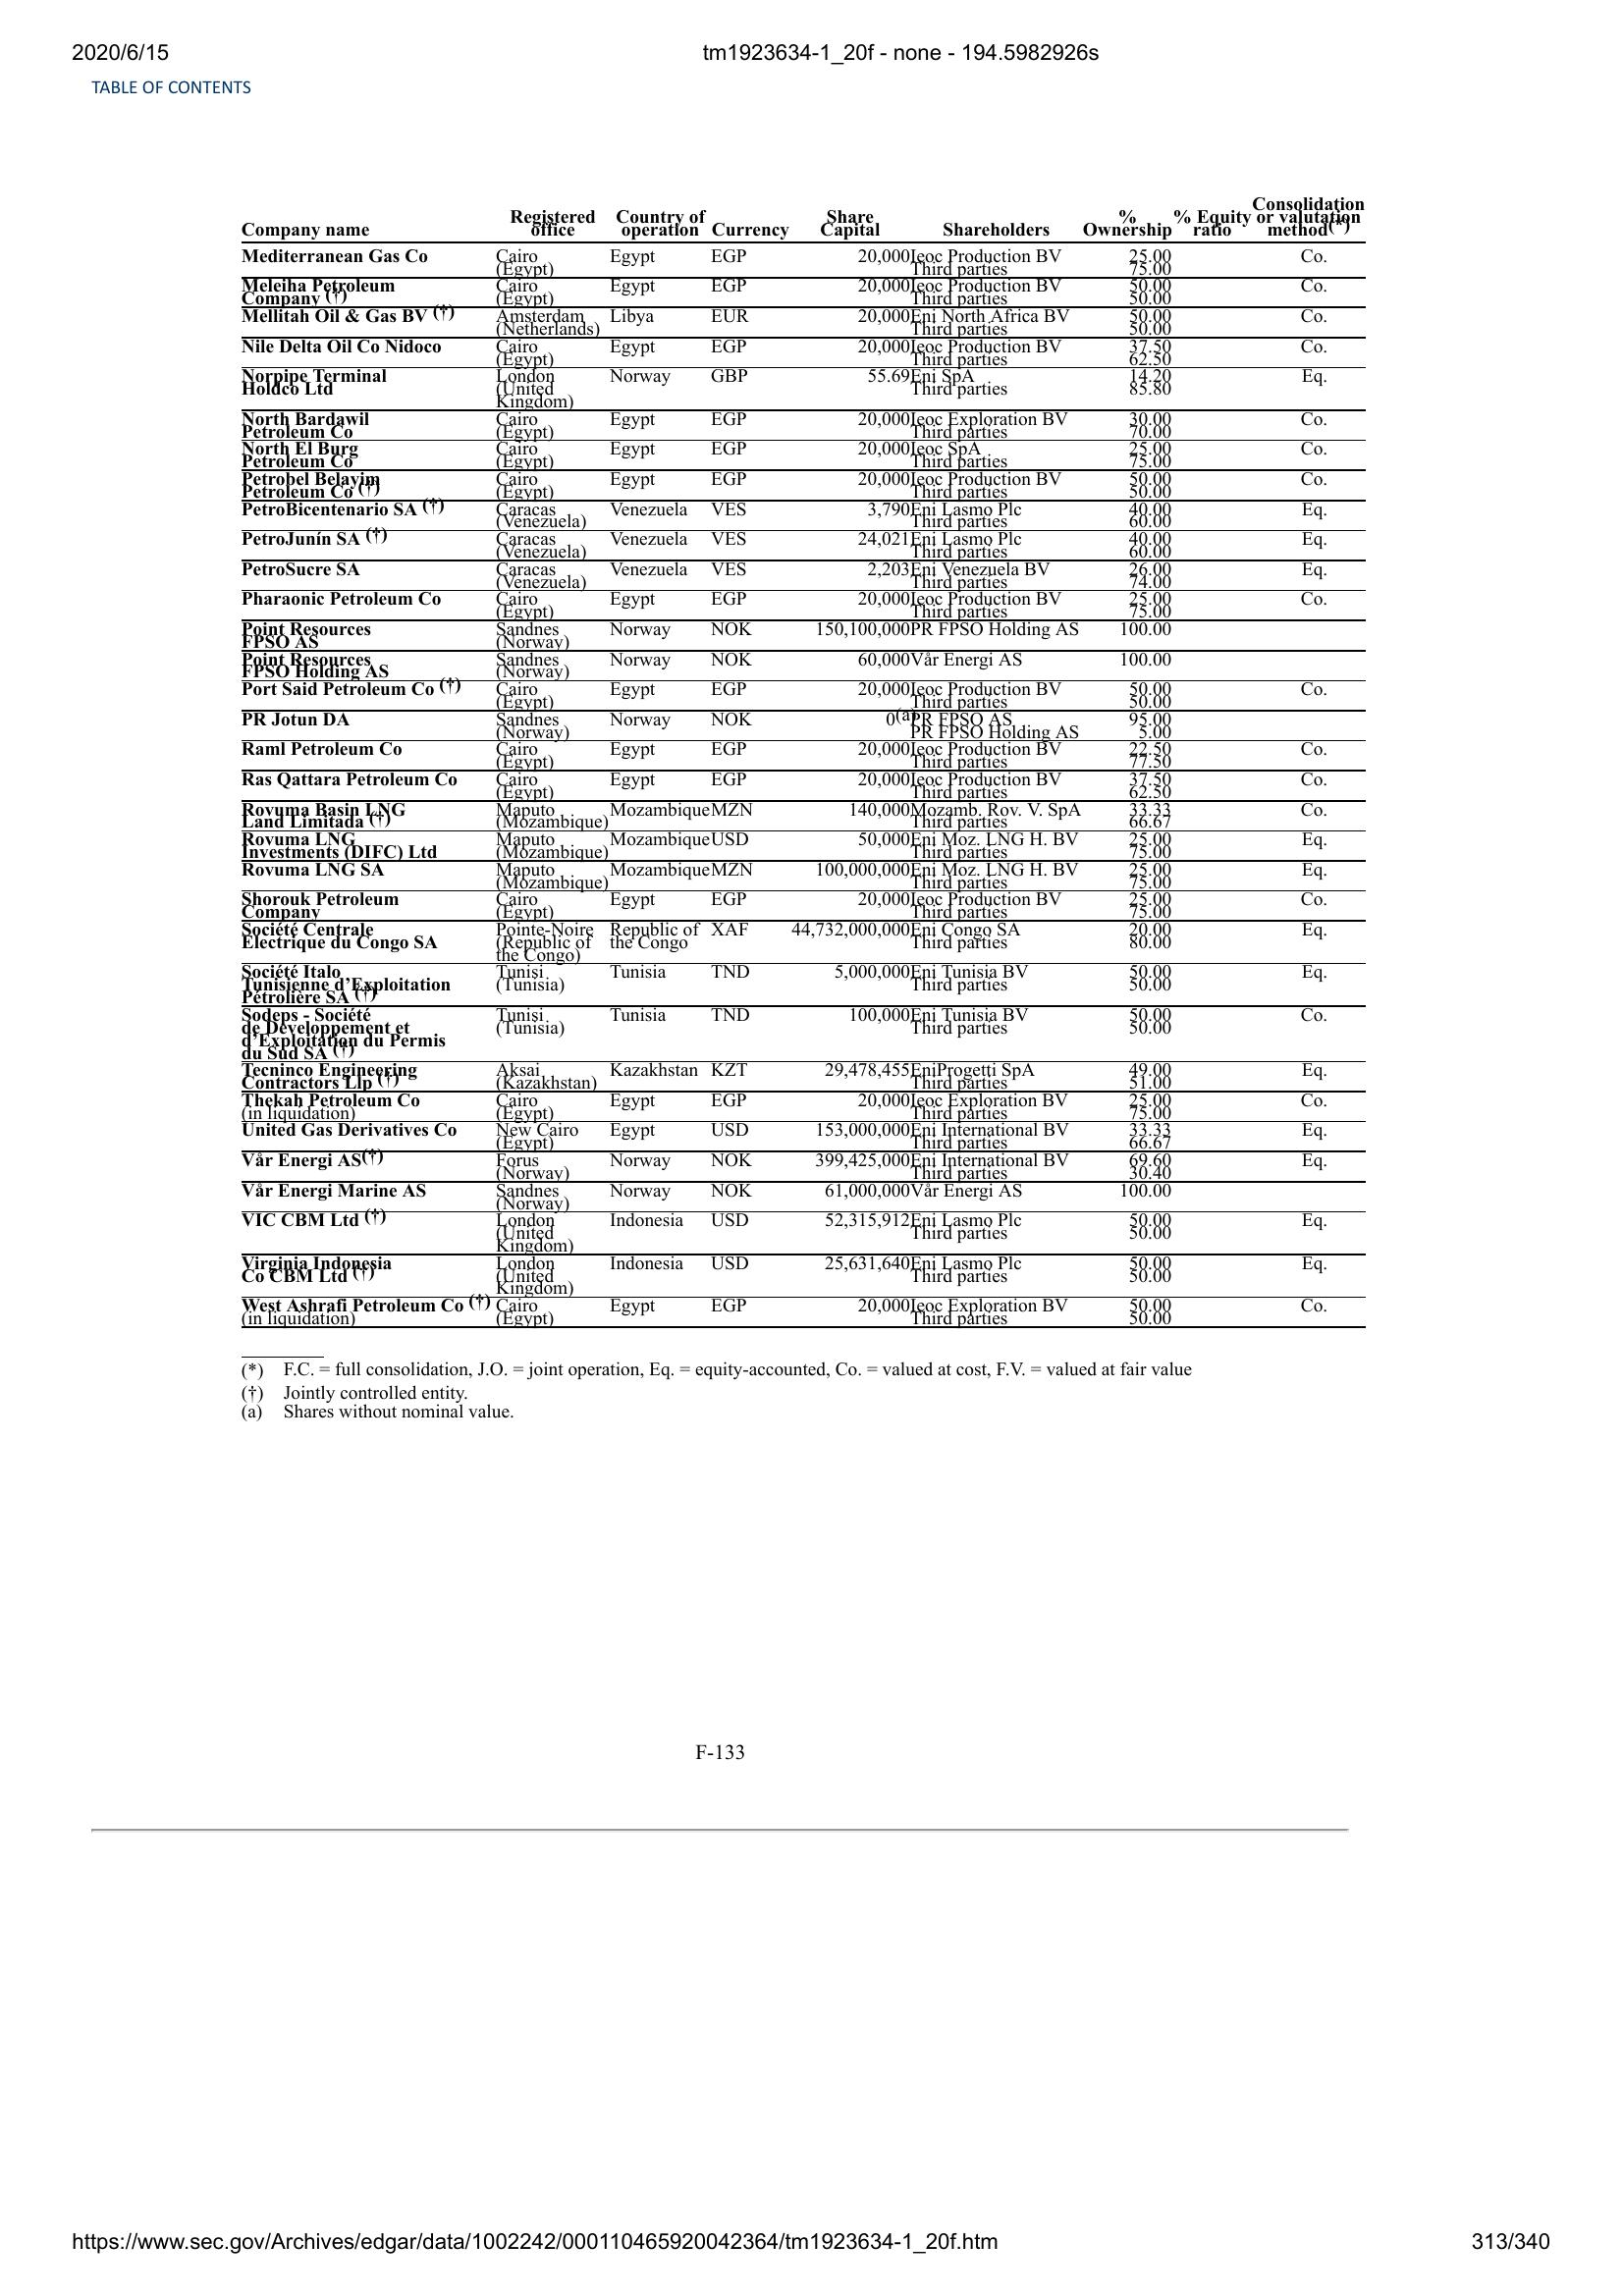table: (230, 184, 1375, 1341)
